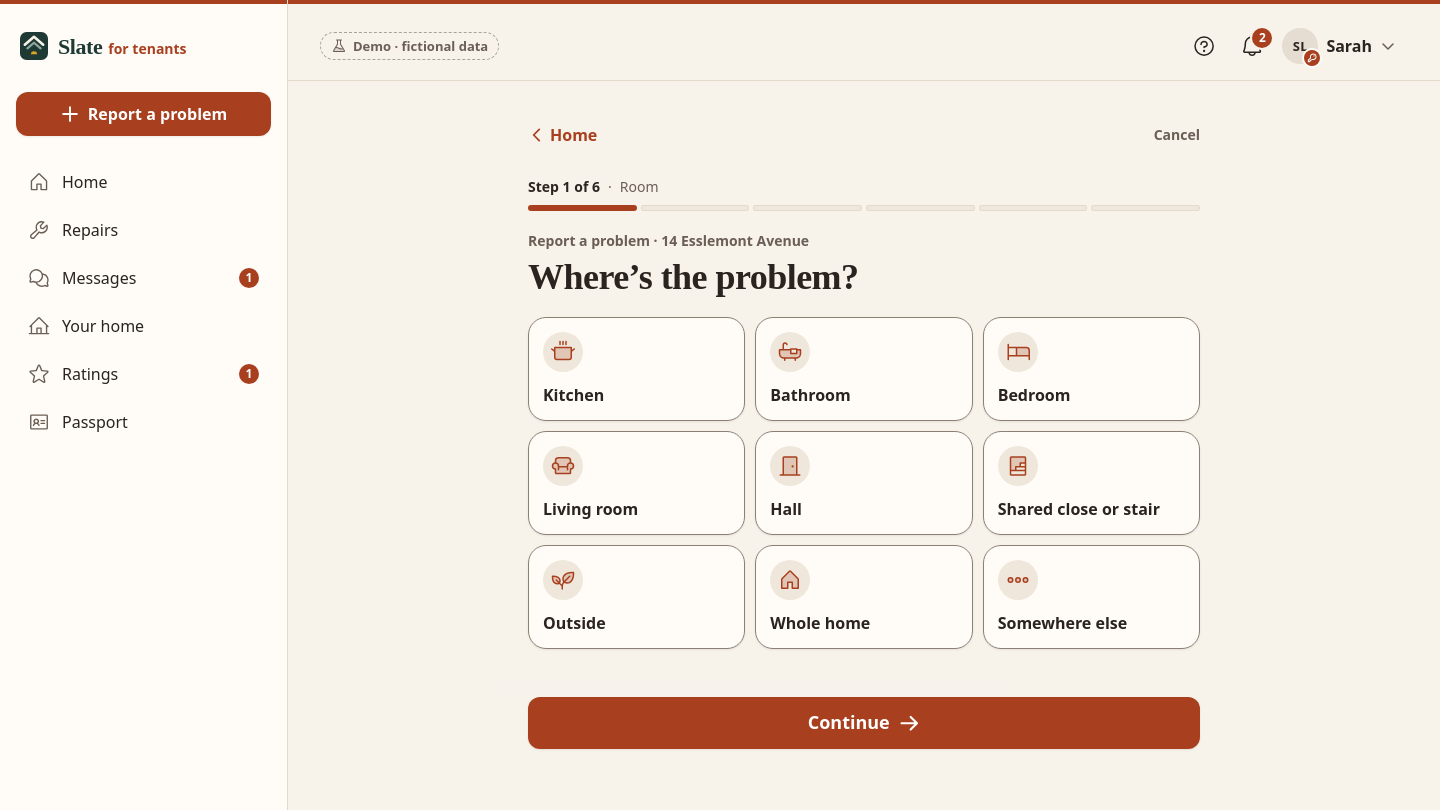
reporting a problem › shows gas emergency advice as soon as a gas problem is chosen
The image size is (1440, 810).
Click the radio button labelled "Kitchen".
click(637, 369)  # box [528,317,745,421]
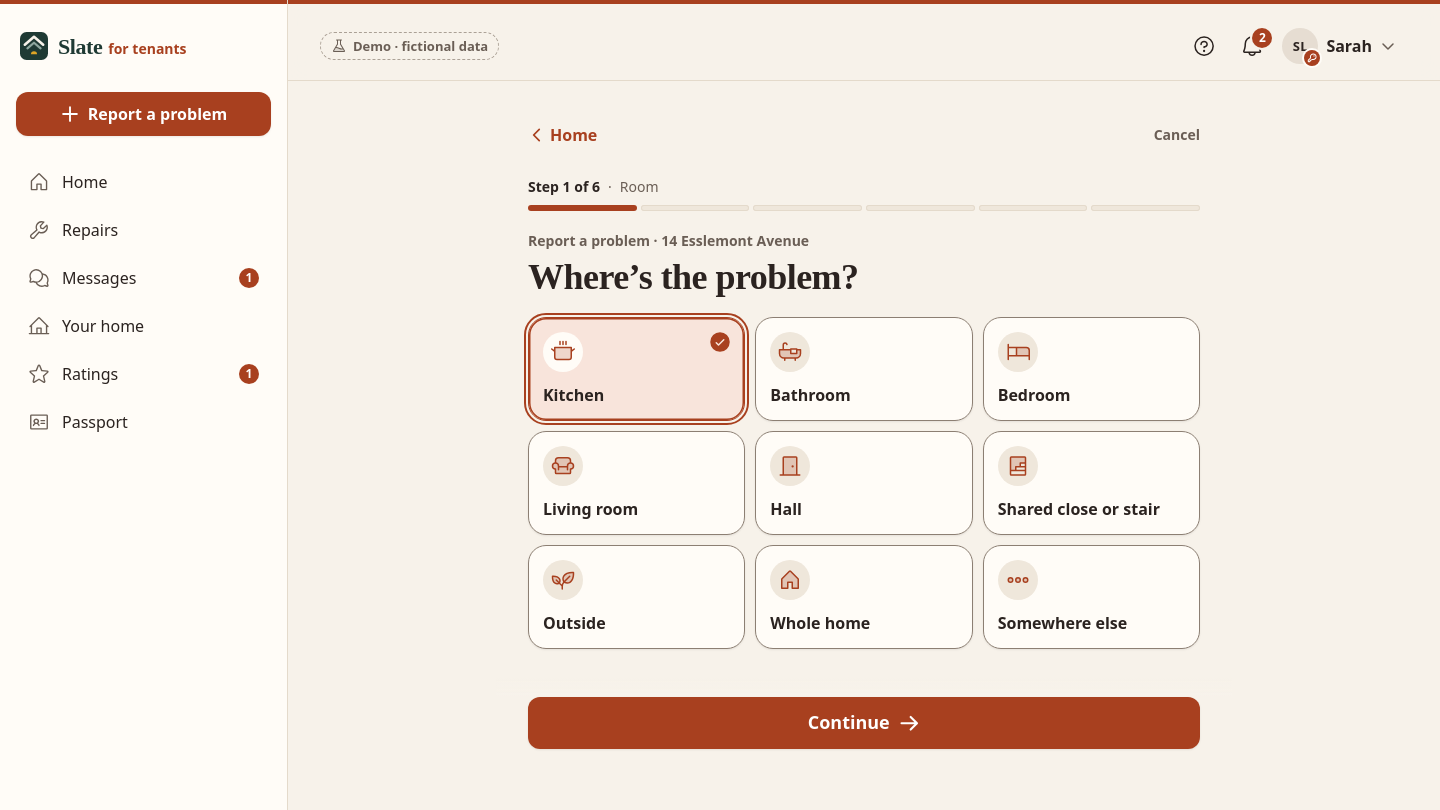
Click the button "Continue".
click(864, 723)  # box [528,697,1200,749]
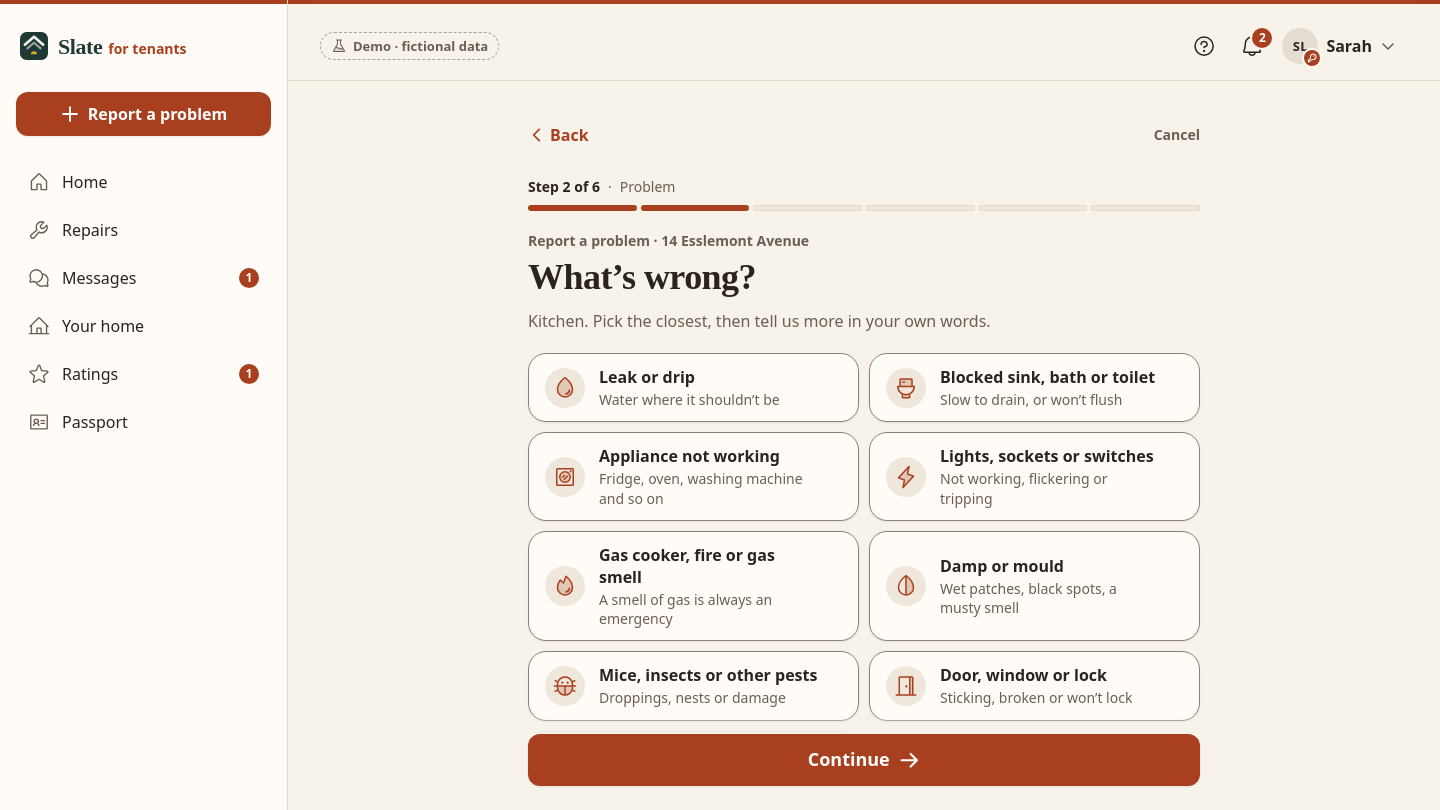
Click the radio button labelled "Gas cooker, fire or gas smell".
click(694, 586)  # box [528,531,859,641]
(page scrolled)
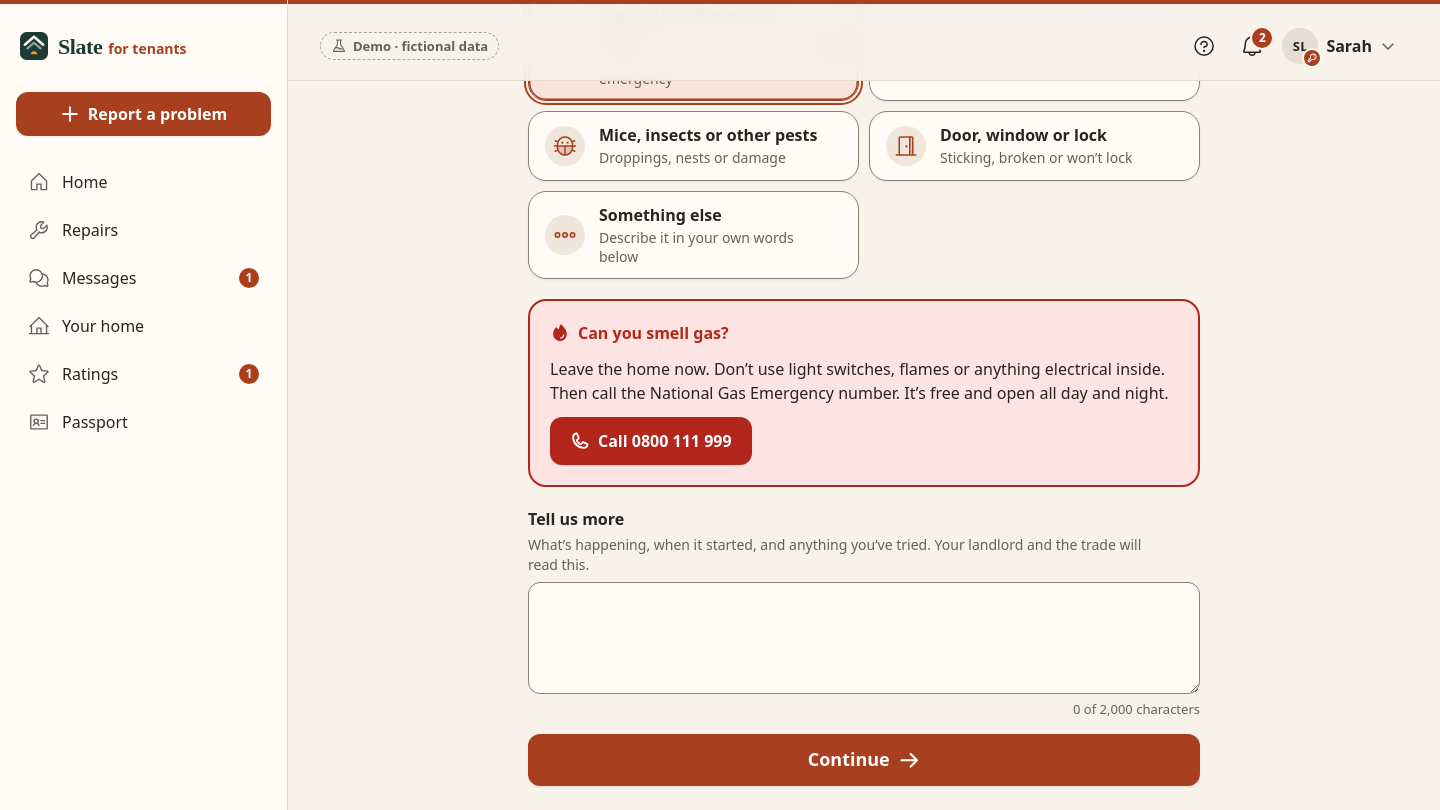
Expected: the text "Can you smell gas?" is shown, [550,322,729,344]
